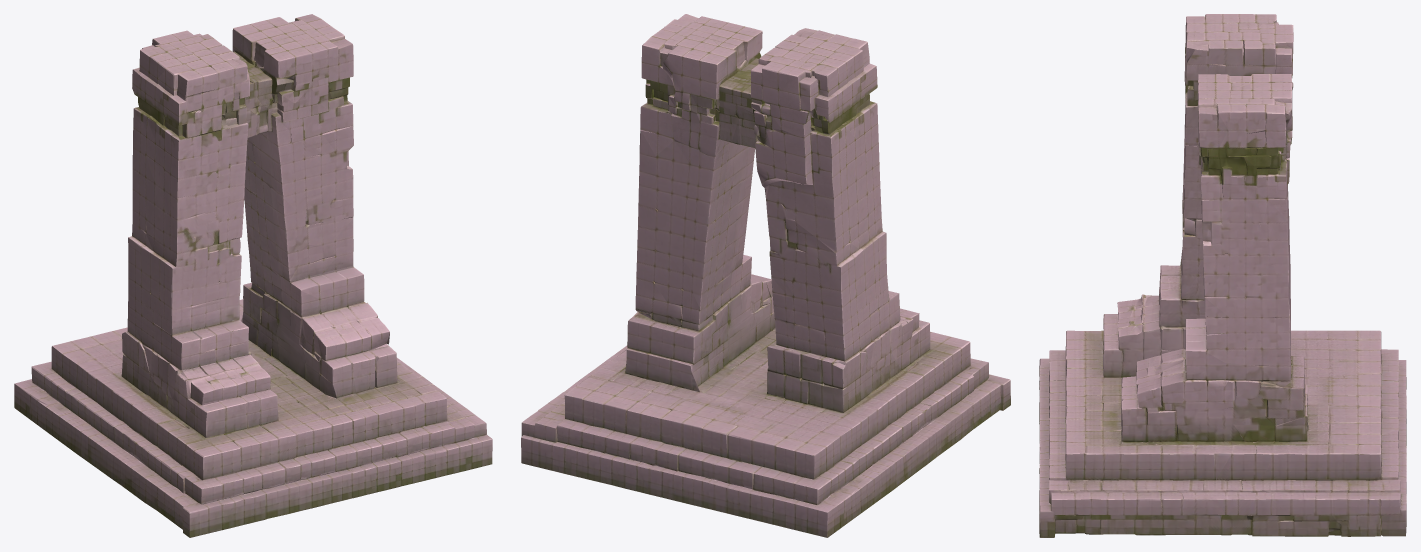
File: legs.glb
3 renders of one model, left to right at view 1: azimuth 30°, elevation 25°; view 2: azimuth 150°, elevation 25°; view 3: azimuth 270°, elevation 25°, orthographic. The views are drawn at different scales.
Parts seen in each view (by area): view 1: output_unwrapped; view 2: output_unwrapped; view 3: output_unwrapped.
Part boxes in pixels (x1,y1,x2,y2): output_unwrapped: (14, 14, 492, 537); output_unwrapped: (521, 14, 1010, 537); output_unwrapped: (1039, 14, 1406, 537).
Size of the model in its own units: 1.55 by 1.9 by 1.57.
Materials: 1 (1 with a texture image).
